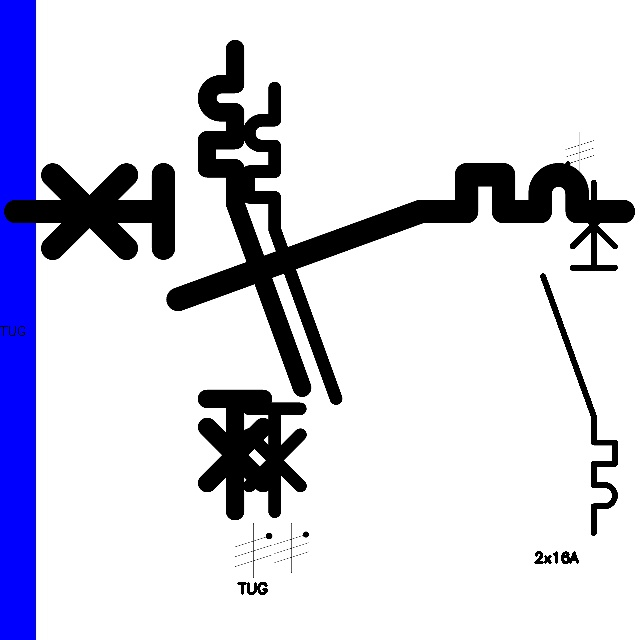interruptor_termomagnetico: (0, 159, 639, 315), (195, 37, 314, 522), (238, 77, 347, 523), (534, 173, 624, 541)
